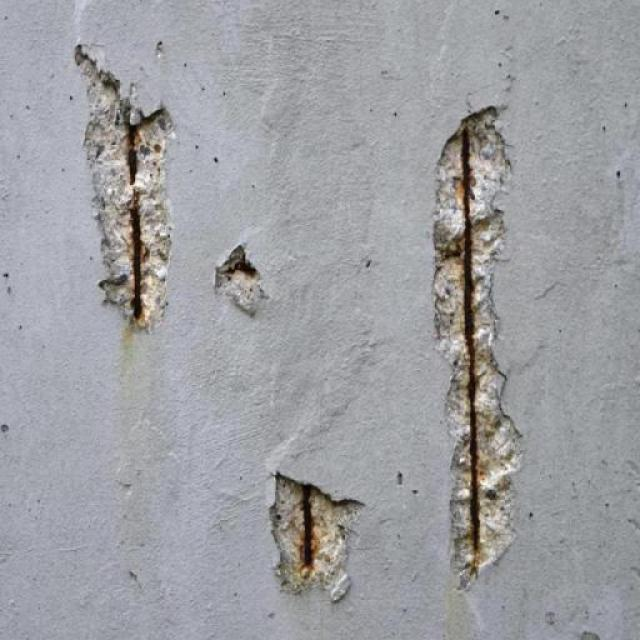D0w0: (434, 108, 522, 589), (75, 45, 174, 329), (270, 472, 362, 600), (215, 245, 265, 312)
